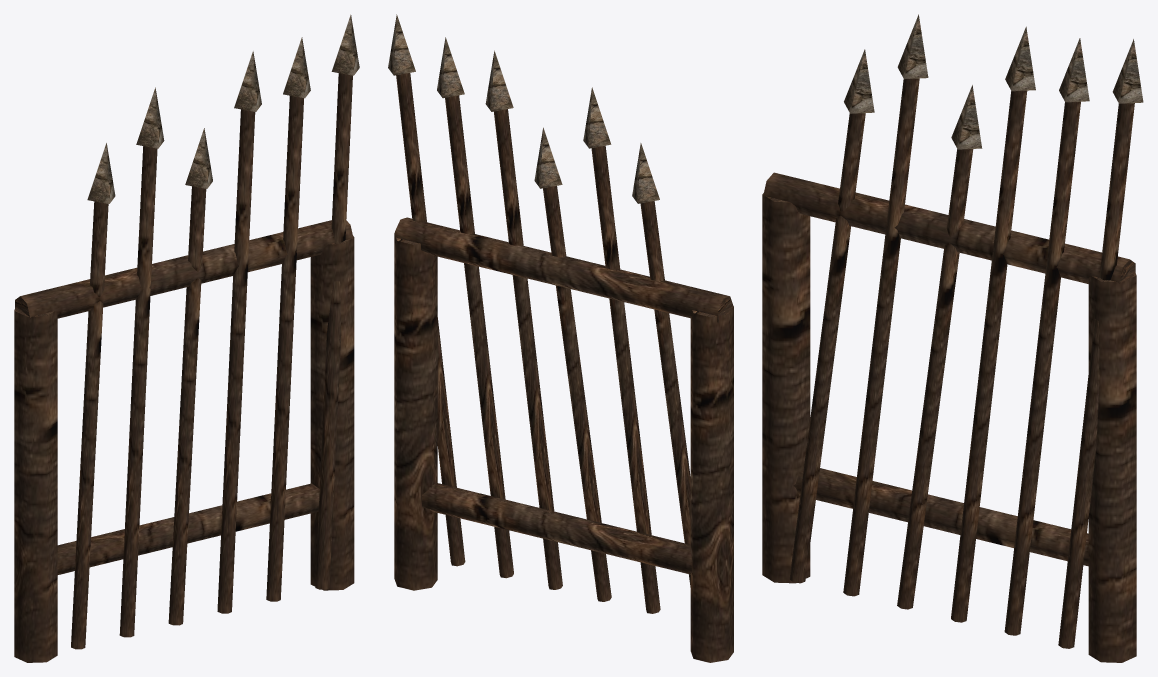
File: spears.glb
The picture shows the model from 3 angles, left to right: view 1: azimuth 30°, elevation 25°; view 2: azimuth 150°, elevation 25°; view 3: azimuth 330°, elevation 25°; orthographic projection. The views are drawn at different scales.
Parts seen in each view (by area): view 1: part_0, part_1; view 2: part_0, part_1; view 3: part_0, part_1.
Part boxes in pixels (x1,y1,x2,y2): part_0: (14,73,354,662); part_1: (87,14,359,203); part_0: (394,73,733,662); part_1: (388,14,659,203); part_0: (762,78,1136,662); part_1: (844,14,1143,149).
Size of the model in its own units: 0.8507 by 1.33 by 0.1292.
Materials: 2 (2 with a texture image).
